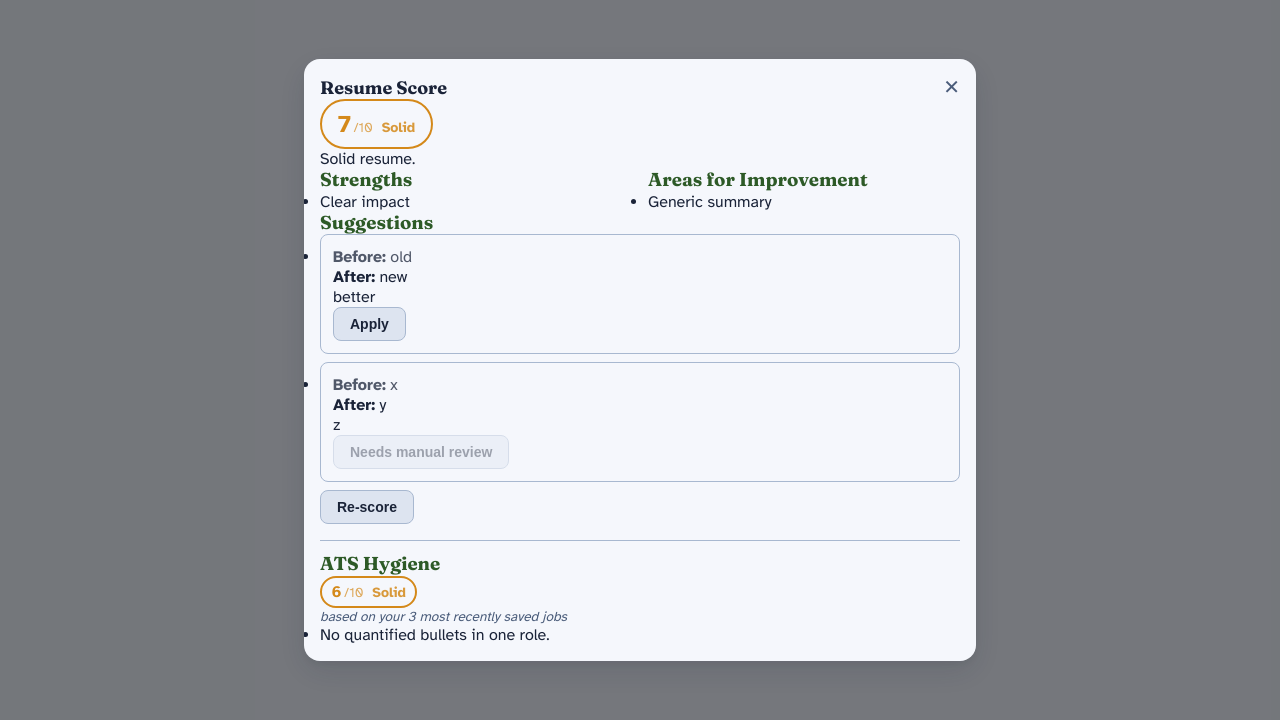
ResumeScoreModal › surfaces an inline error and does not mark Applied when apply-suggestion fails
Click the button "Apply": click(369, 324) [333,307,406,341]
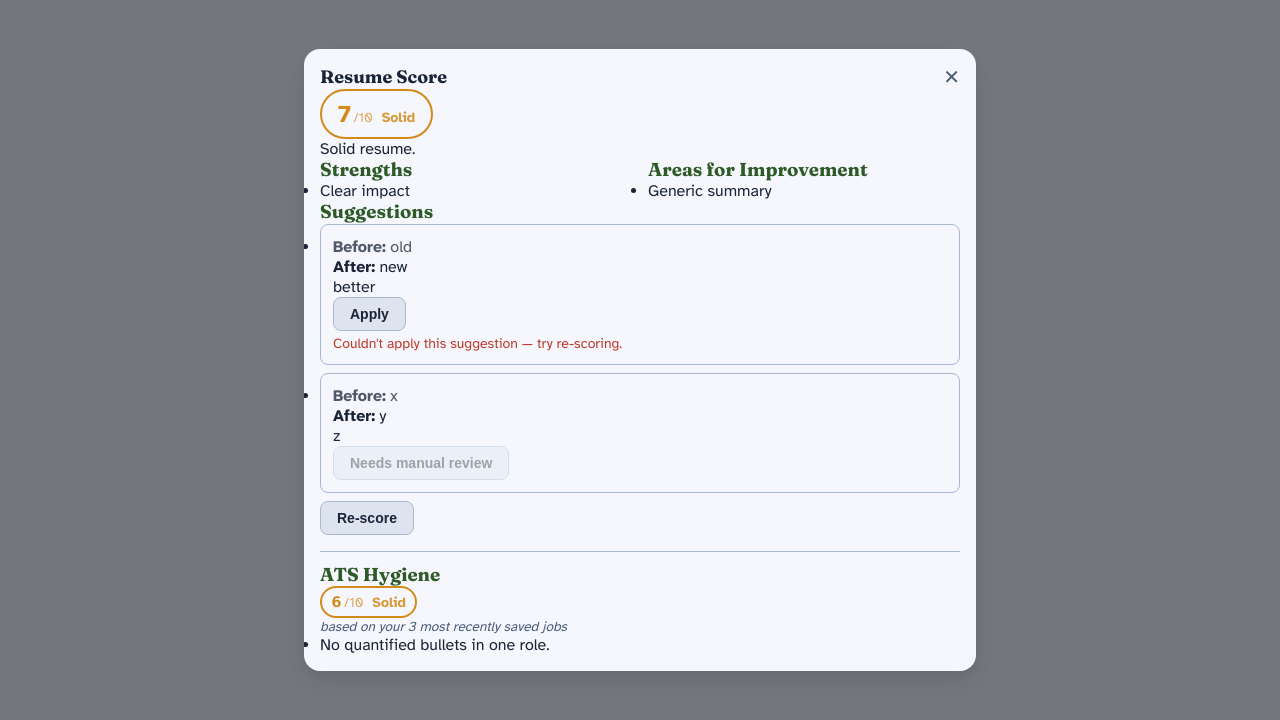
expect the message "Couldn't apply this suggestion — try re-scoring." is shown: met, box [333,335,622,352]
